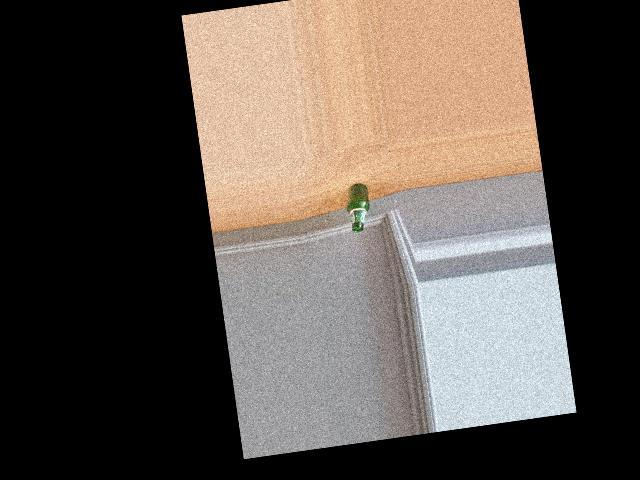beer: (343, 182, 373, 233)
